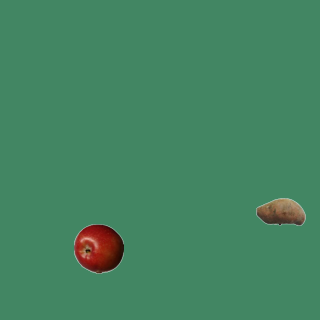Apple Braeburn: (73, 223, 123, 273)
Potato Sweet: (255, 186, 305, 236)
